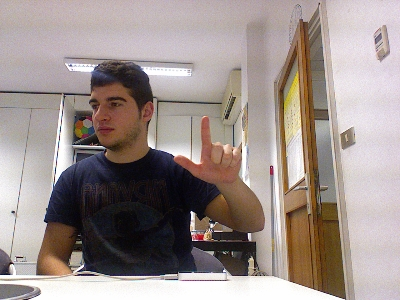枪: (169, 113, 243, 184)
